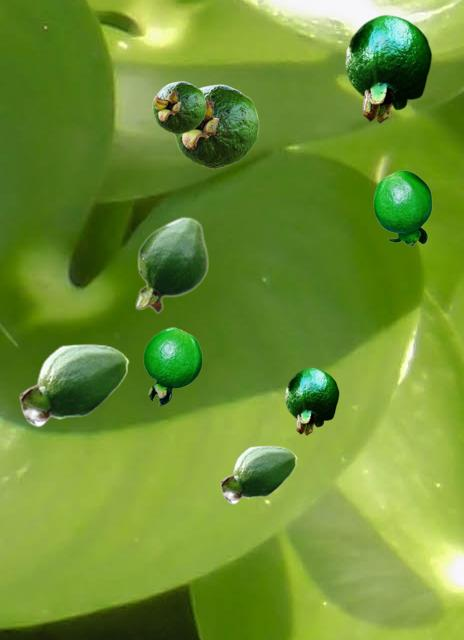guava: (345, 14, 431, 122), (19, 343, 128, 426), (173, 84, 258, 168), (135, 216, 207, 313), (143, 327, 201, 405), (220, 445, 296, 503), (373, 170, 431, 245), (285, 367, 338, 434), (152, 81, 205, 133)
